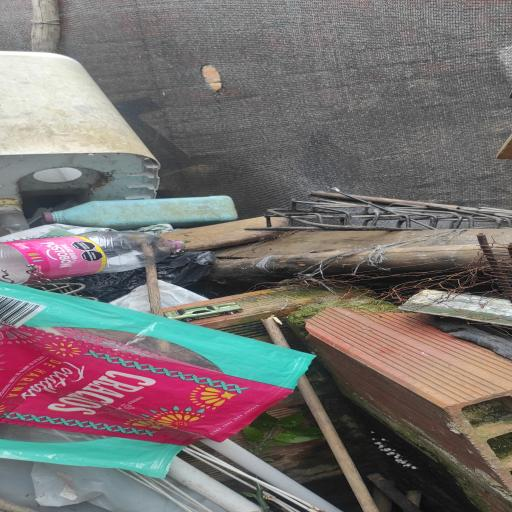Carrito: (165, 302, 243, 322)
